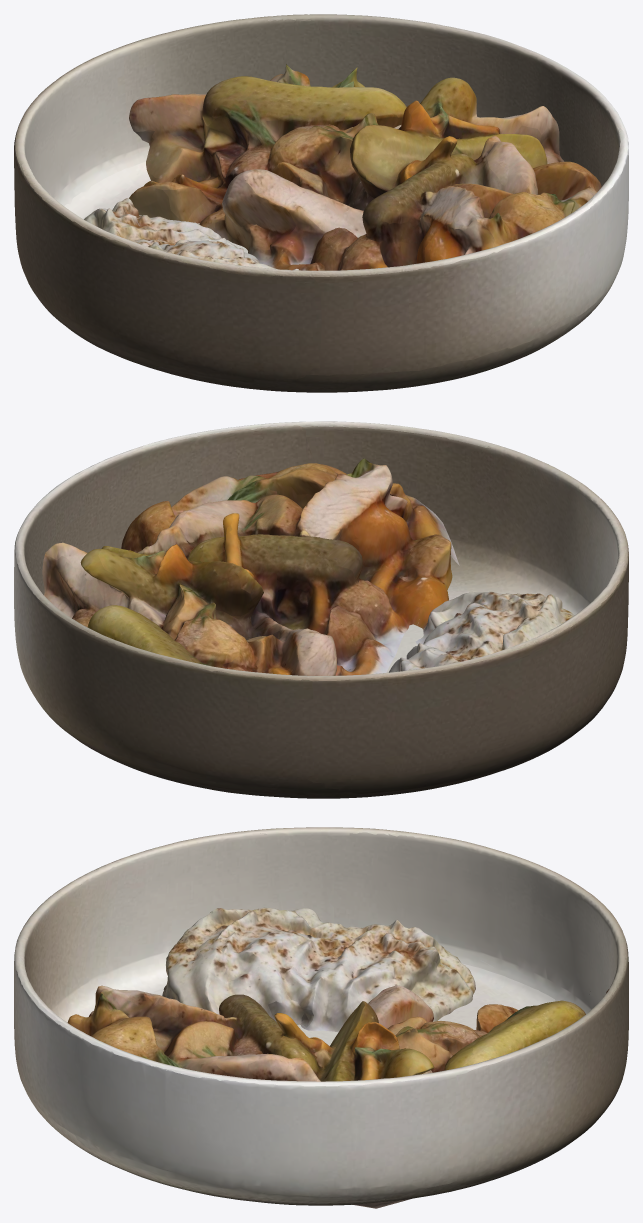
Rendered from with.turkey.young001.glb.
3 views of the same model, one above another, from view 1: azimuth 30°, elevation 25°; view 2: azimuth 150°, elevation 25°; view 3: azimuth 270°, elevation 25° (orthographic).
Parts seen in each view (by area): view 1: /Root/Scenes/Scene/Object_473/Object_475/Object_476/Submesh_, /Root/Scenes/Scene/Object_473/Object_474/Submesh_0; view 2: /Root/Scenes/Scene/Object_473/Object_475/Object_476/Submesh_, /Root/Scenes/Scene/Object_473/Object_474/Submesh_0; view 3: /Root/Scenes/Scene/Object_473/Object_475/Object_476/Submesh_, /Root/Scenes/Scene/Object_473/Object_474/Submesh_0.
Part boxes in pixels (x1,y1,x2,y2): /Root/Scenes/Scene/Object_473/Object_475/Object_476/Submesh_: [14, 14, 628, 392]; /Root/Scenes/Scene/Object_473/Object_474/Submesh_0: [84, 64, 601, 270]; /Root/Scenes/Scene/Object_473/Object_475/Object_476/Submesh_: [14, 421, 628, 798]; /Root/Scenes/Scene/Object_473/Object_474/Submesh_0: [42, 458, 574, 675]; /Root/Scenes/Scene/Object_473/Object_475/Object_476/Submesh_: [14, 827, 628, 1205]; /Root/Scenes/Scene/Object_473/Object_474/Submesh_0: [67, 907, 608, 1208].
Bounding box in the file's own units: 0.2291 × 0.0579 × 0.229.
Materials: 2 (2 with a texture image).
